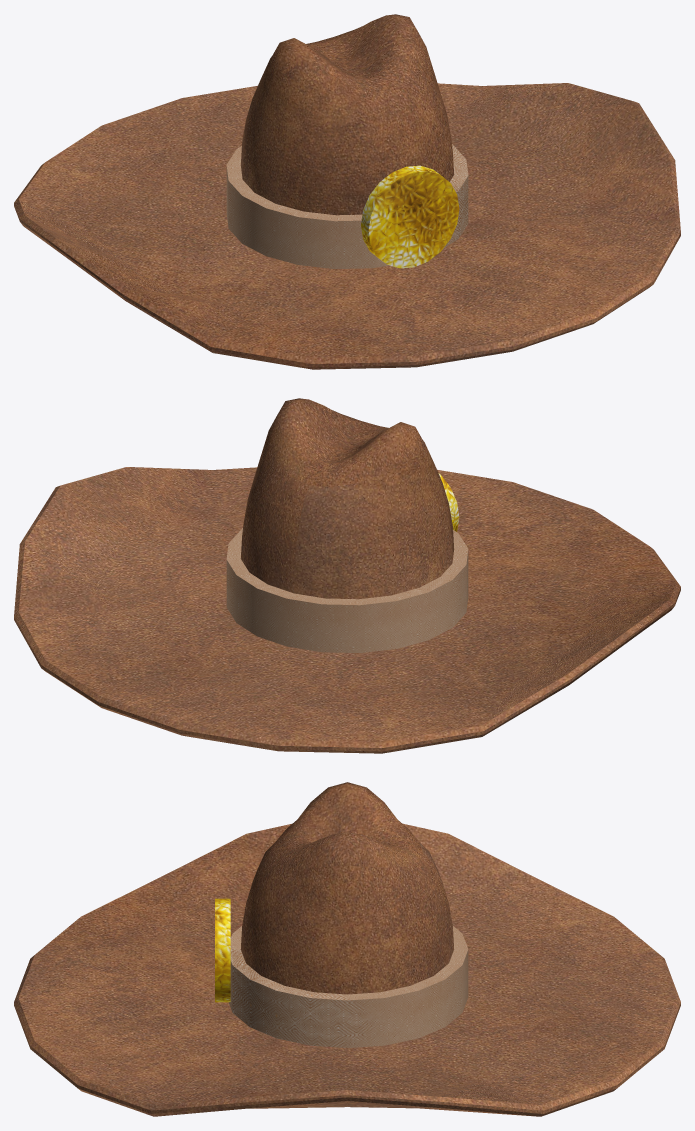
File: cappelloSceriffo.fbx
The picture shows the model from 3 angles, top to bottom: view 1: azimuth 30°, elevation 25°; view 2: azimuth 150°, elevation 25°; view 3: azimuth 270°, elevation 25°; orthographic projection.
Parts seen in each view (by area): view 1: CappelloMesh; view 2: CappelloMesh; view 3: CappelloMesh.
Boxes of the visible parts, bbox=[...] form: CappelloMesh: bbox=[14, 14, 680, 369]; CappelloMesh: bbox=[14, 398, 680, 753]; CappelloMesh: bbox=[14, 782, 680, 1116].
Size of the model in its own units: 4.82 by 1.6 by 4.8.
Materials: 1 (1 with a texture image).
